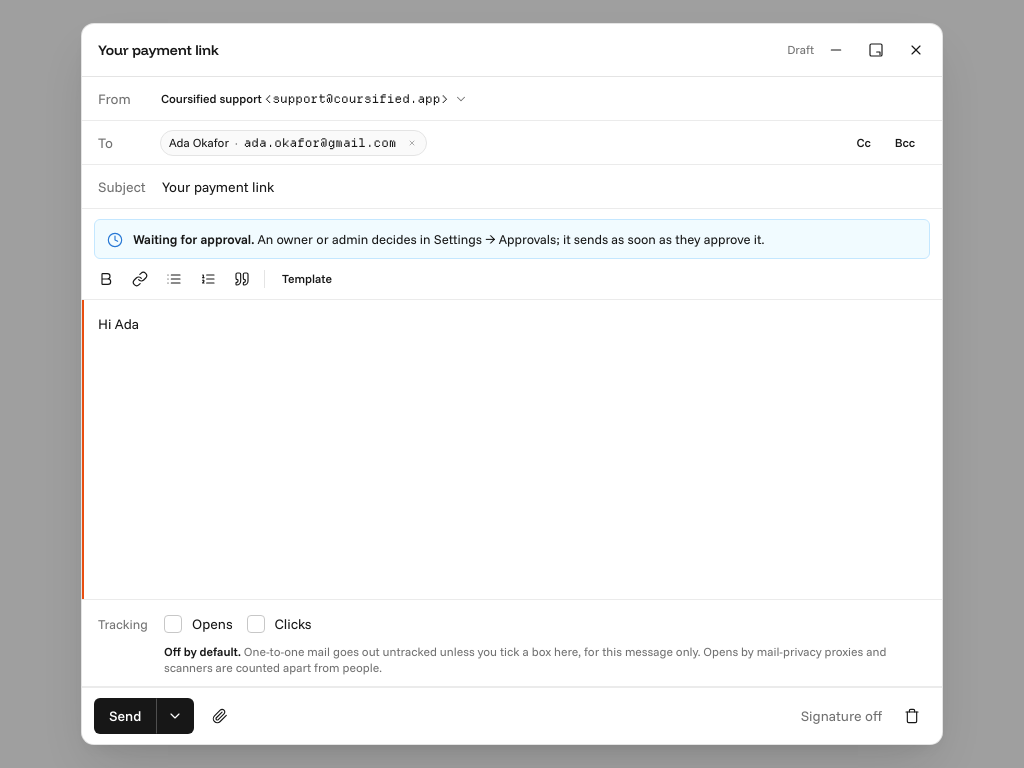
Test: a blocked draft › names a 409 agent_limit from Send
This screenshot has width=1024, height=768.
Expected: the button named "Remove ada.okafor@gmail.com" is shown, [402,132,422,152]
Click the button "Send": {"x": 125, "y": 716} [94,698,156,734]
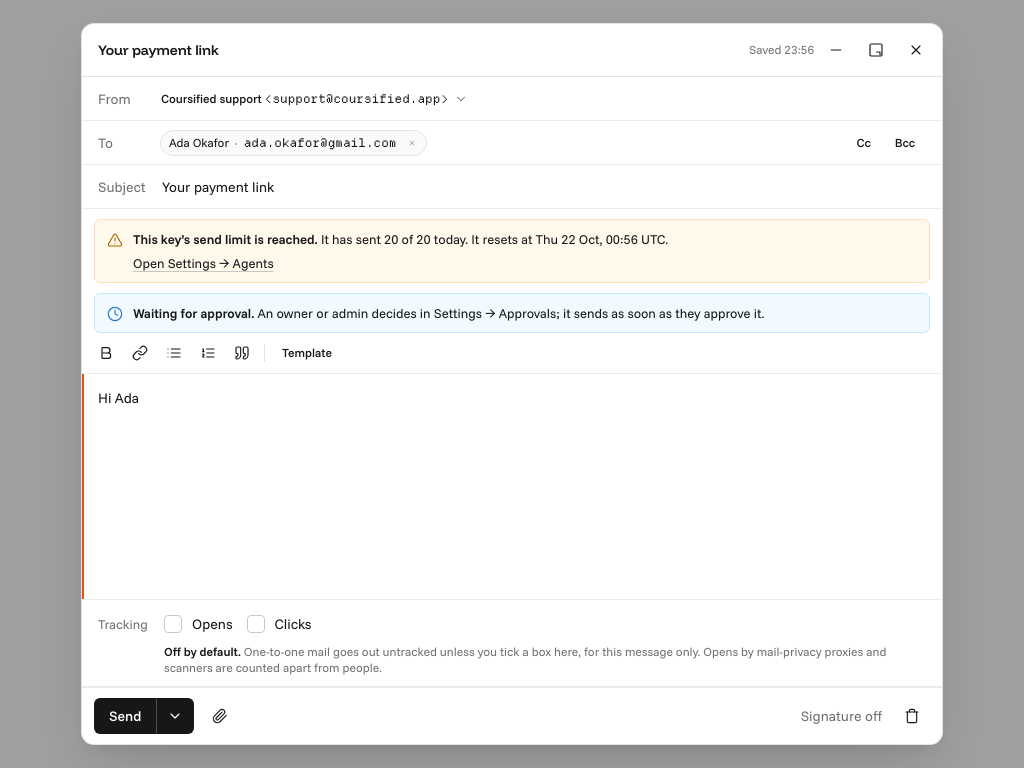
Result: the text "This key’s send limit is reached." is shown at [133,231,318,247]
